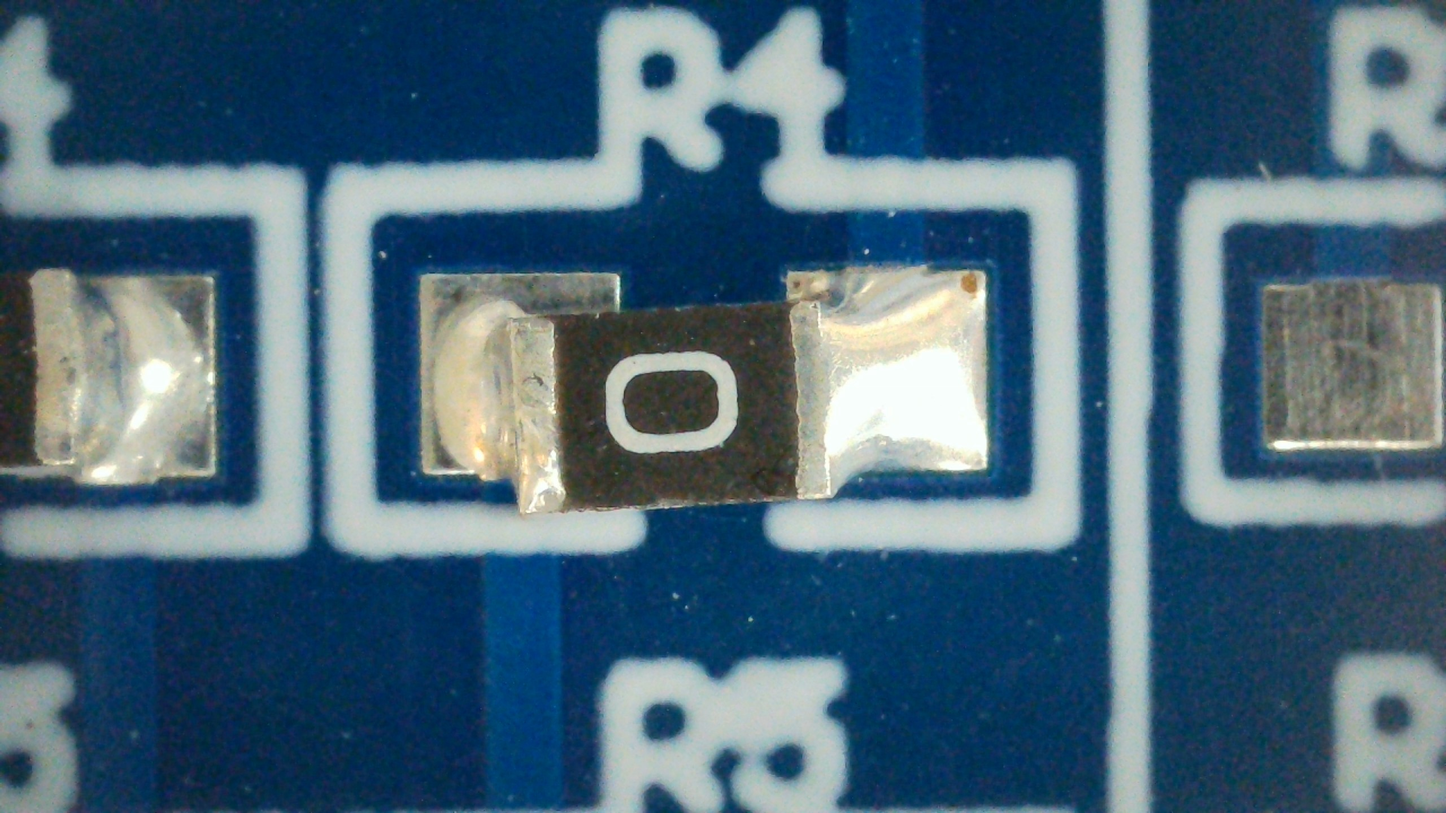NG: (420, 265, 989, 515)
